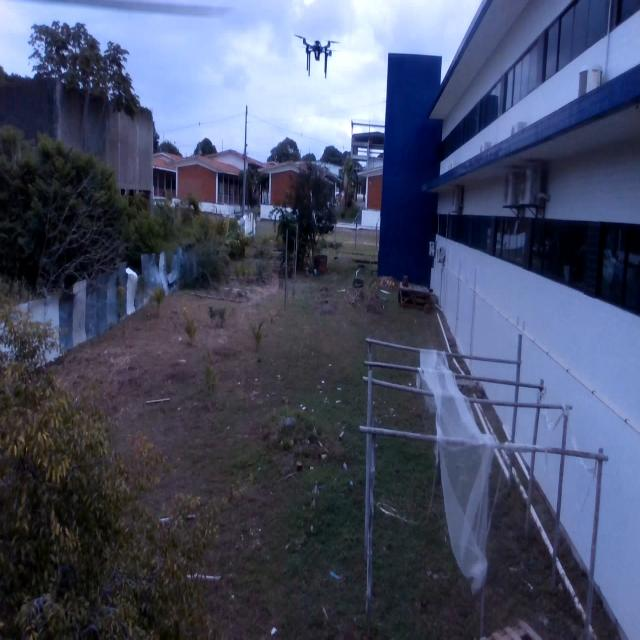-uav-: (292, 21, 342, 83)
